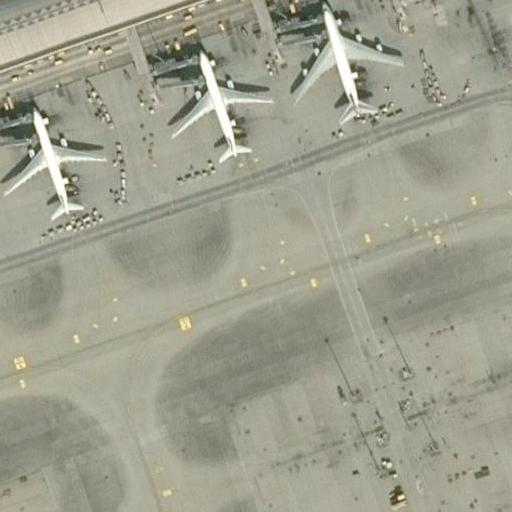Aircraft: (285, 0, 404, 131), (167, 46, 276, 167), (6, 101, 109, 220)
